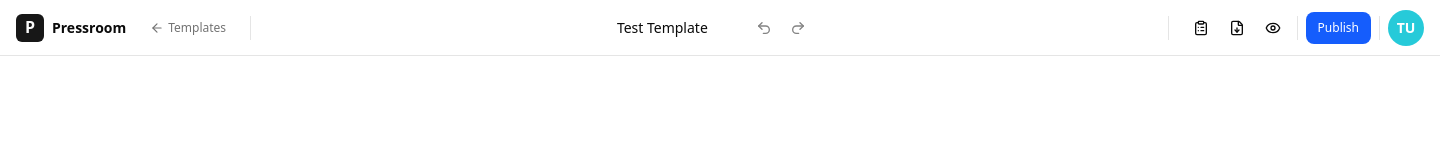
StudioHeader › Template Name Editing › enters edit mode when template name is clicked
Click the button with test id "template-name-display".
click(672, 28)  # box [605, 14, 740, 42]
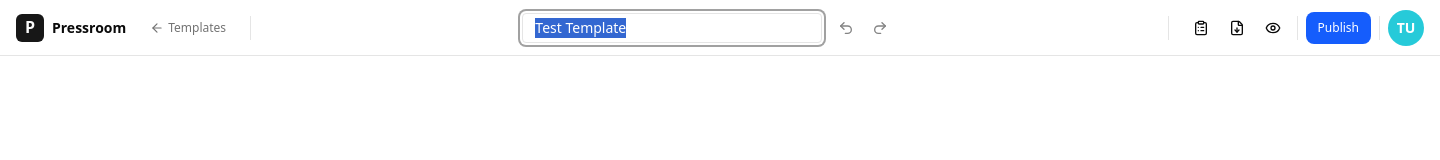
Expected: the field with test id "template-name-input" holds "Test Template", [522, 12, 822, 42]
